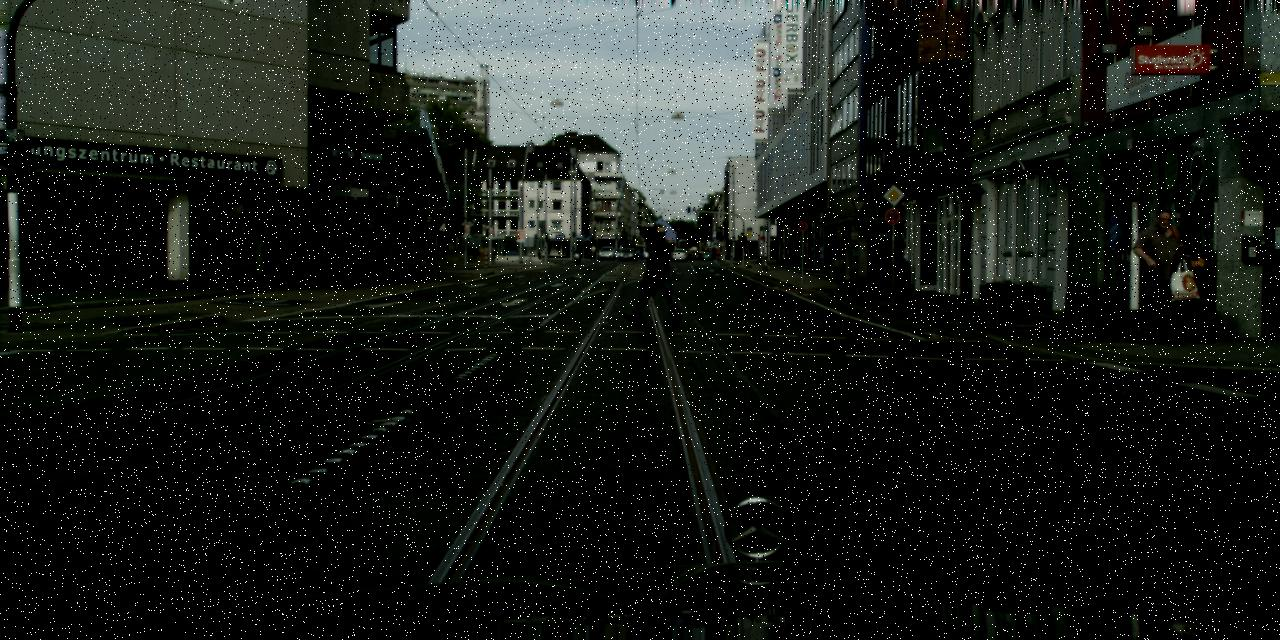ped: (1134, 207, 1190, 342), (636, 223, 676, 323), (590, 245, 595, 257), (575, 248, 579, 260)
